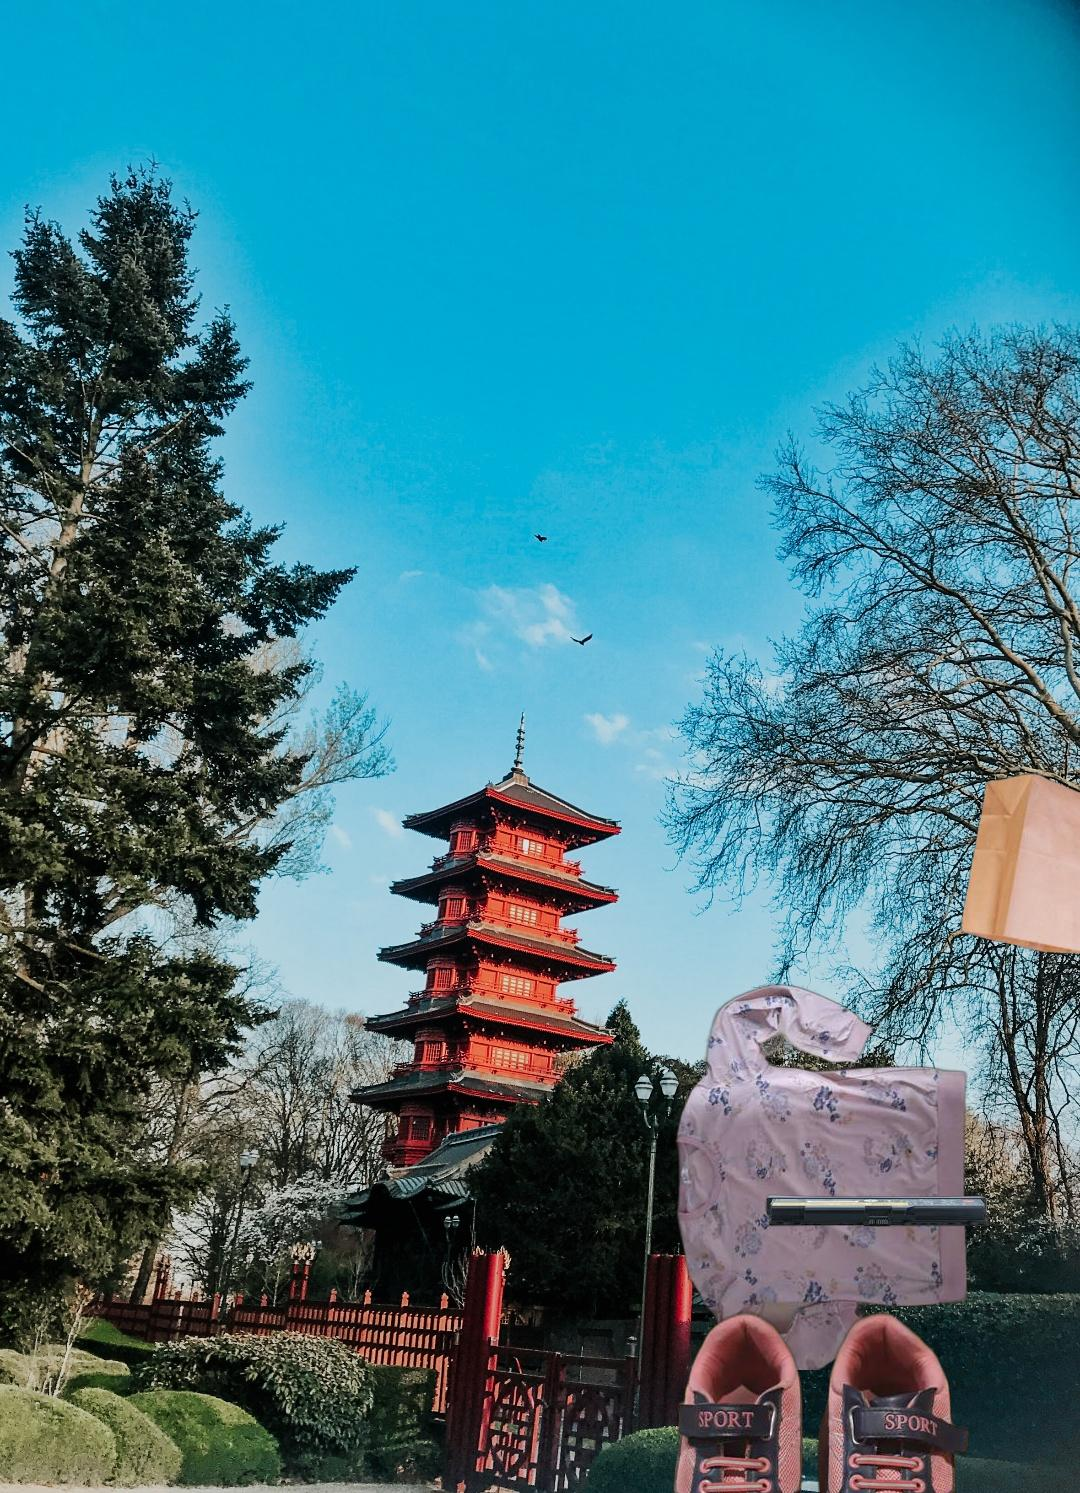battery: (765, 1192, 990, 1229)
clothes: (670, 981, 972, 1370)
paper-bag: (958, 770, 1080, 957)
shoes: (666, 1304, 973, 1493)
